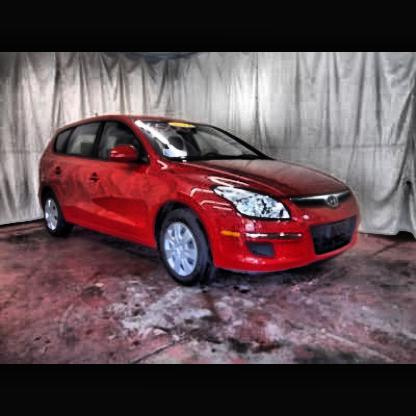Hyundai Elantra Touring Hatchback 2012: (36, 113, 364, 288)
